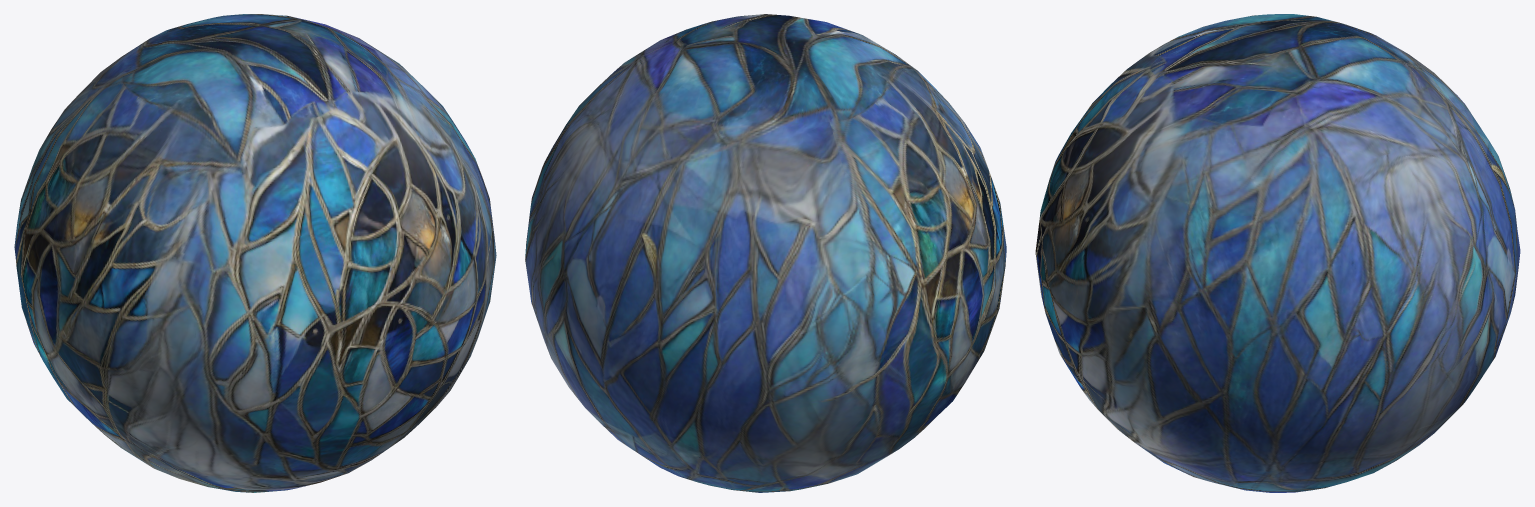
The model's file is testSphereStarBlue.glb.
The picture shows the model from 3 angles, left to right: view 1: azimuth 30°, elevation 25°; view 2: azimuth 150°, elevation 25°; view 3: azimuth 270°, elevation 25°; orthographic projection.
Parts seen in each view (by area): view 1: Mesh_0; view 2: Mesh_0; view 3: Mesh_0.
Part boxes in pixels (bbox=[...]): Mesh_0: bbox=[14, 14, 496, 492]; Mesh_0: bbox=[525, 14, 1006, 492]; Mesh_0: bbox=[1035, 14, 1520, 492].
Bounding box in the file's own units: 1.01 × 1 × 1.01.
Materials: 1 (1 with a texture image).
